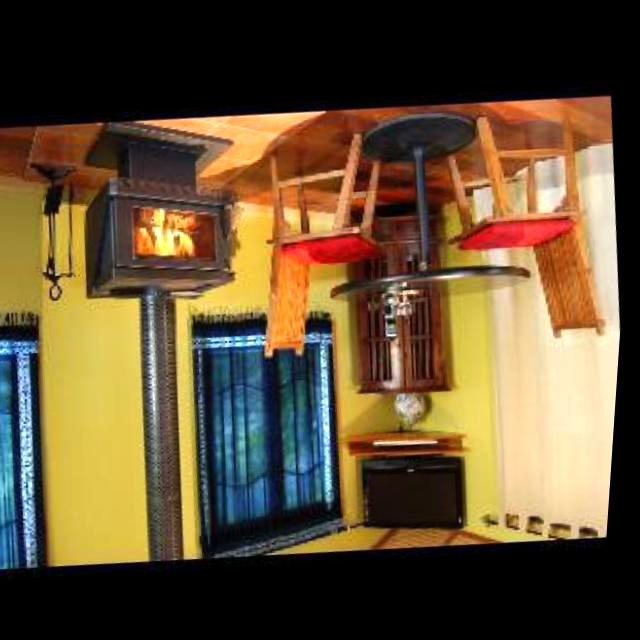fire: (131, 198, 223, 266)
